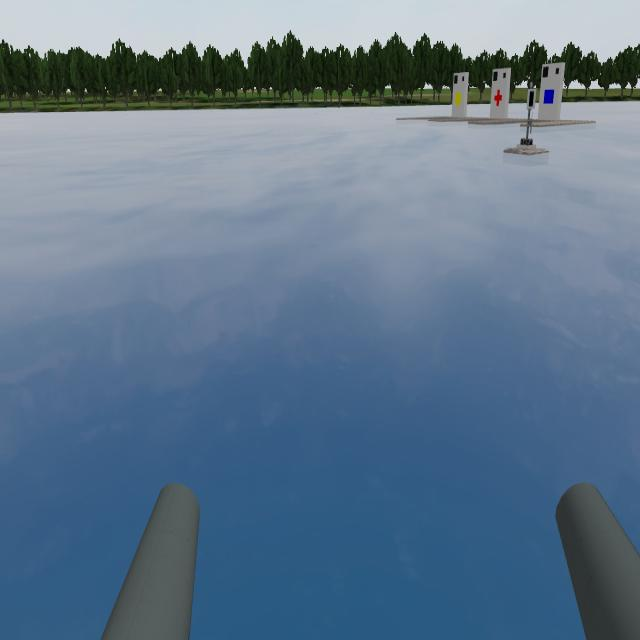black_pole: (524, 78, 537, 111)
